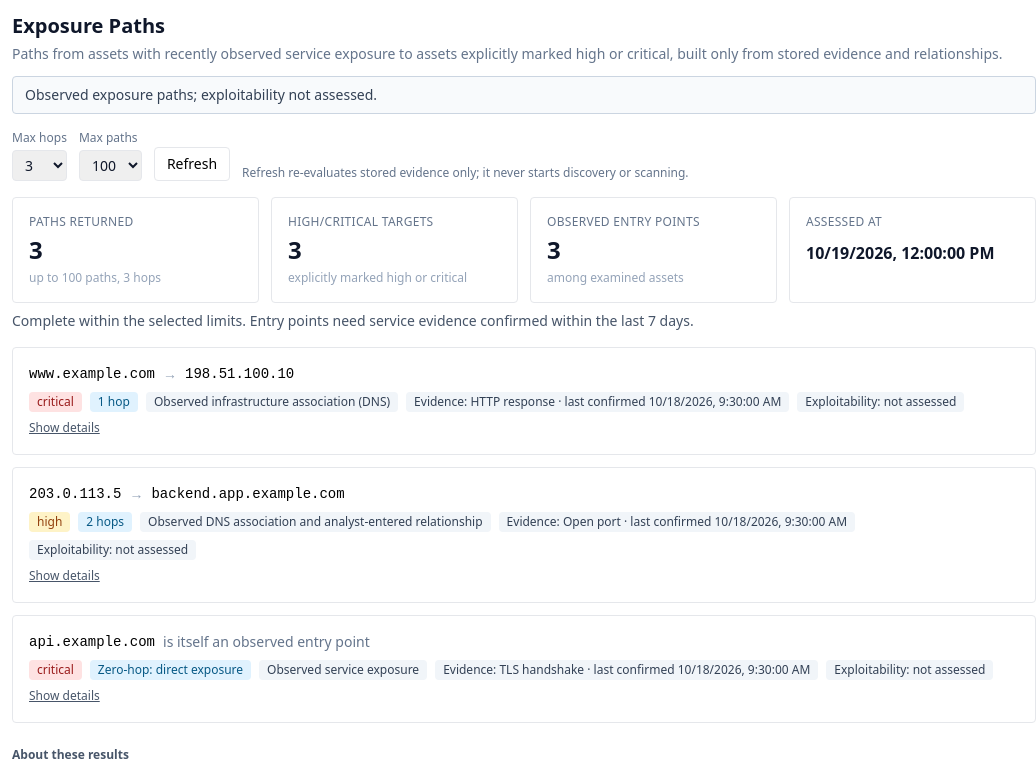
Scenario: ExposurePathsPage › sends only the chosen limits and shows the server's message for a rejected value
Check: the list named "Exposure paths" is shown, box [12,347,1035,723]
Select "25" in the dropdown labelled "Max paths" at (110, 166), box [79,150,142,181]
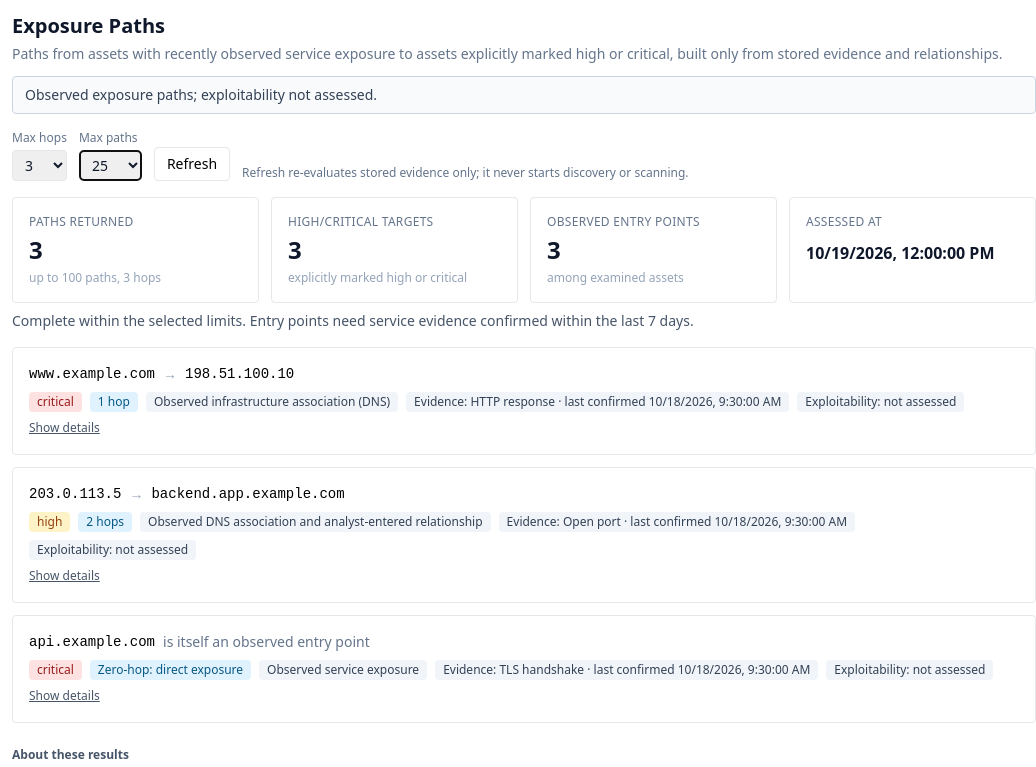
Select "1" in the dropdown labelled "Max hops" at (39, 166), box [12,150,67,181]
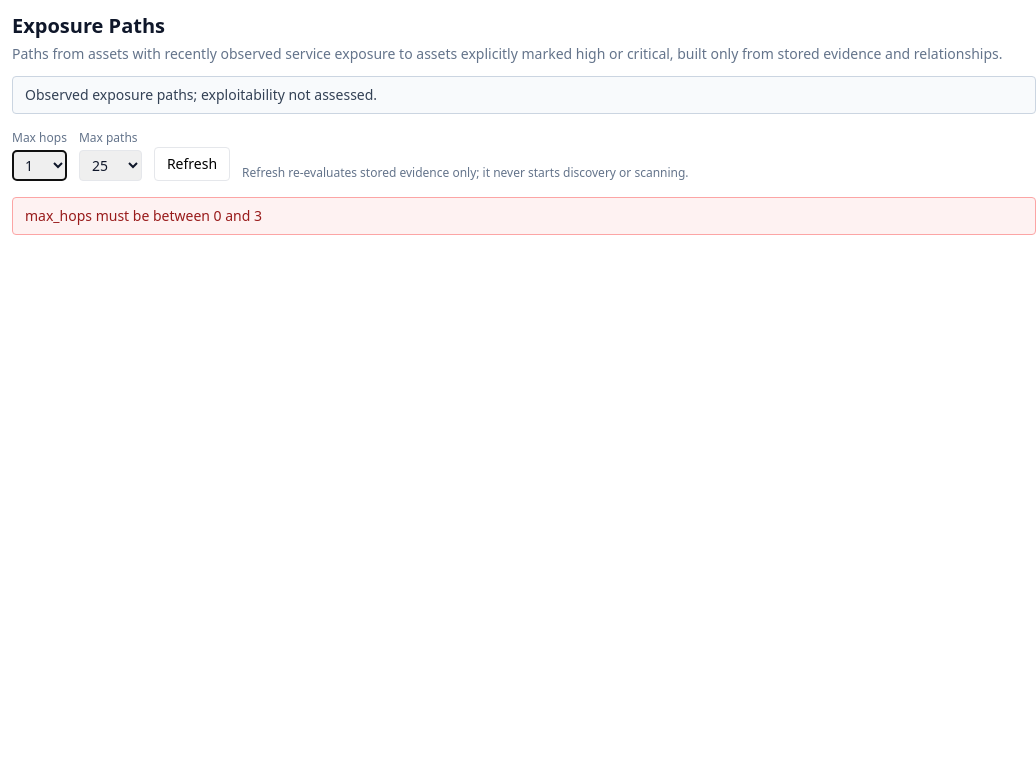
Check: the message reads "max_hops must be between 0 and 3", box [25,206,262,225]
